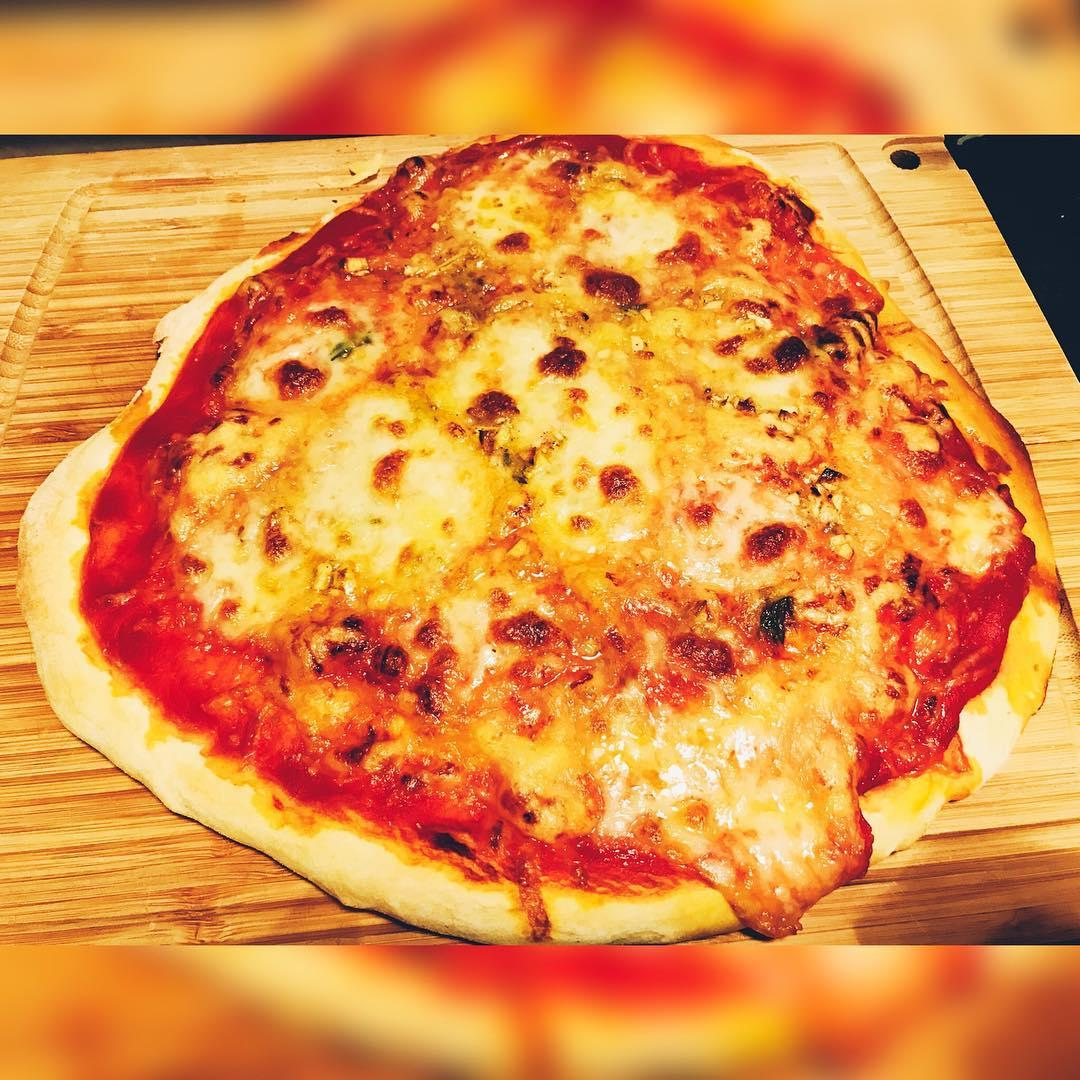Pizza: (25, 133, 1055, 950)
